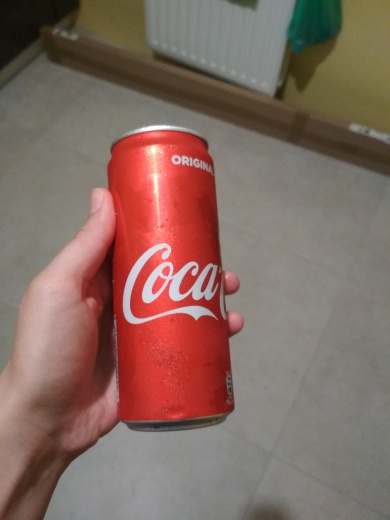cola: (84, 111, 251, 430)
